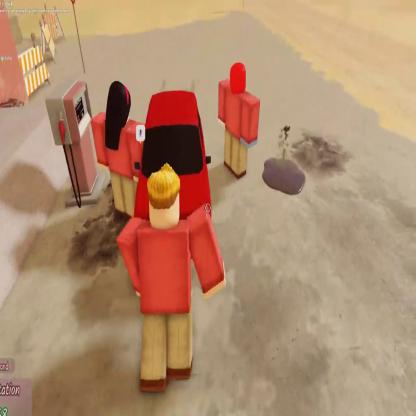Roblox-Avatar: (117, 163, 227, 392), (92, 81, 146, 218), (219, 62, 261, 181)
